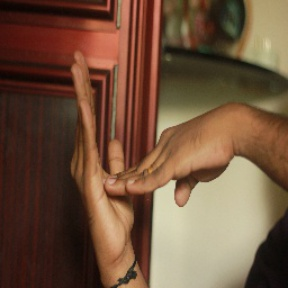Z: (56, 47, 232, 248)
